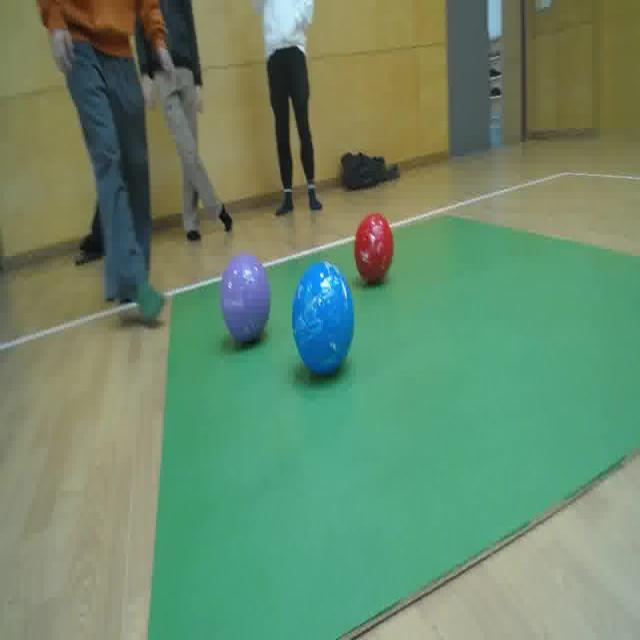blue_ball: (286, 262, 356, 374)
purple_ball: (221, 250, 275, 354)
red_ball: (351, 209, 396, 291)
